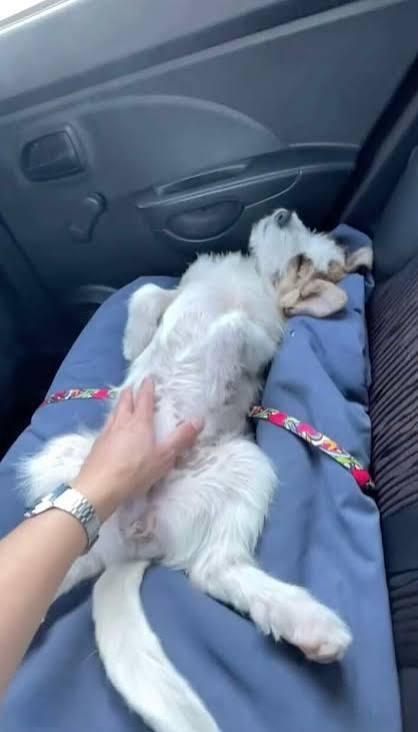puppy-dog: (24, 203, 373, 732)
